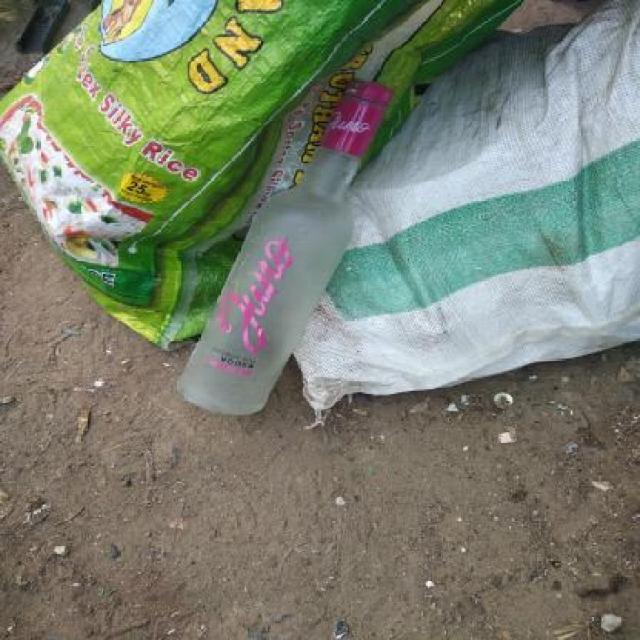garbage: (156, 66, 412, 438)
